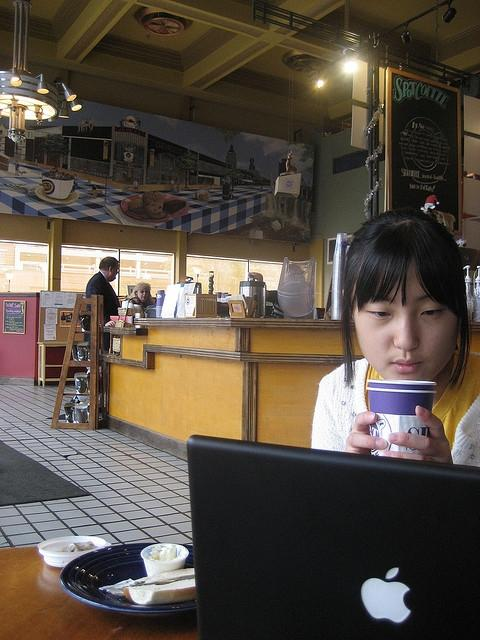apple: (361, 578, 410, 623)
